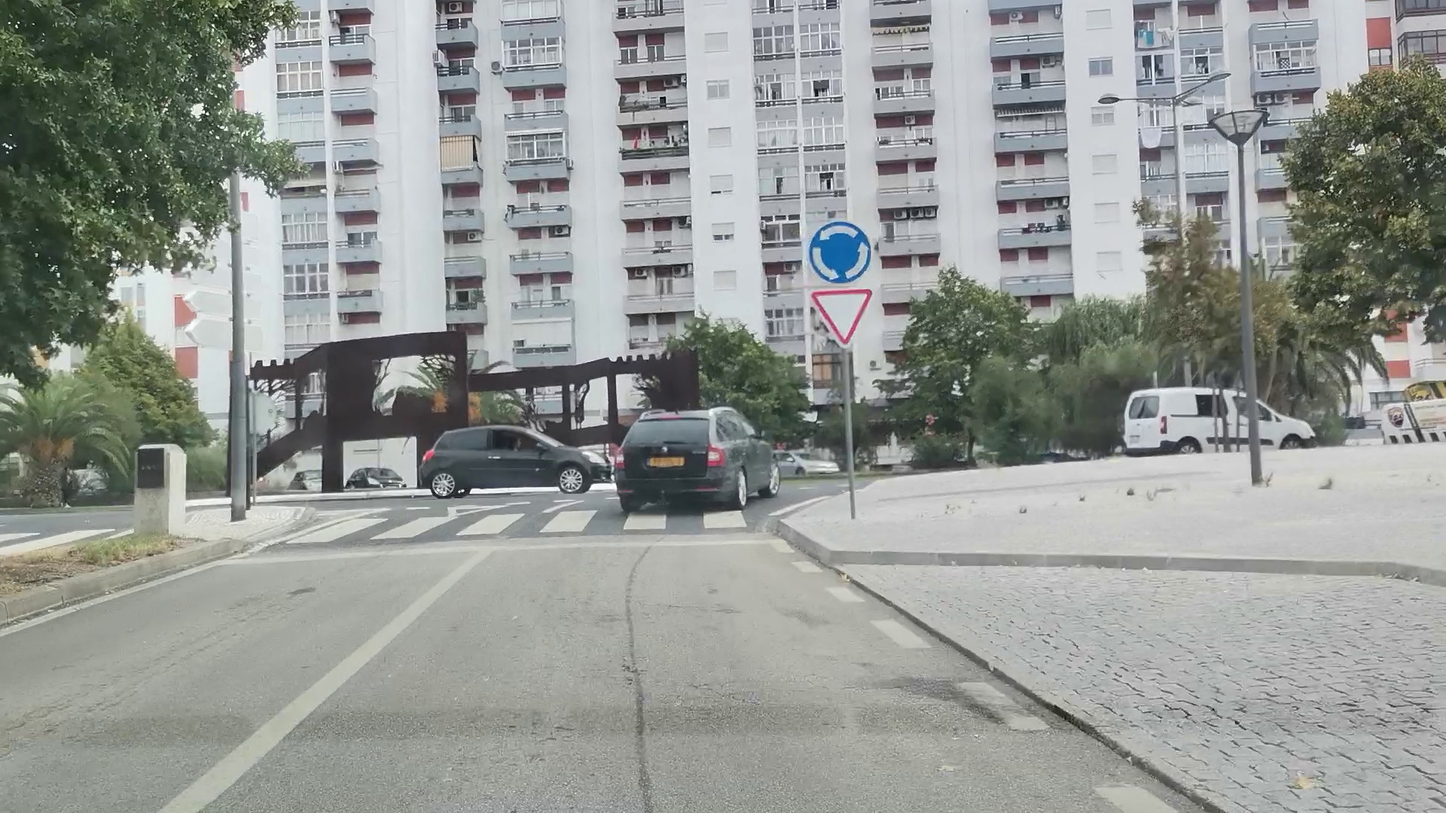Stairs: (279, 506, 758, 546)
